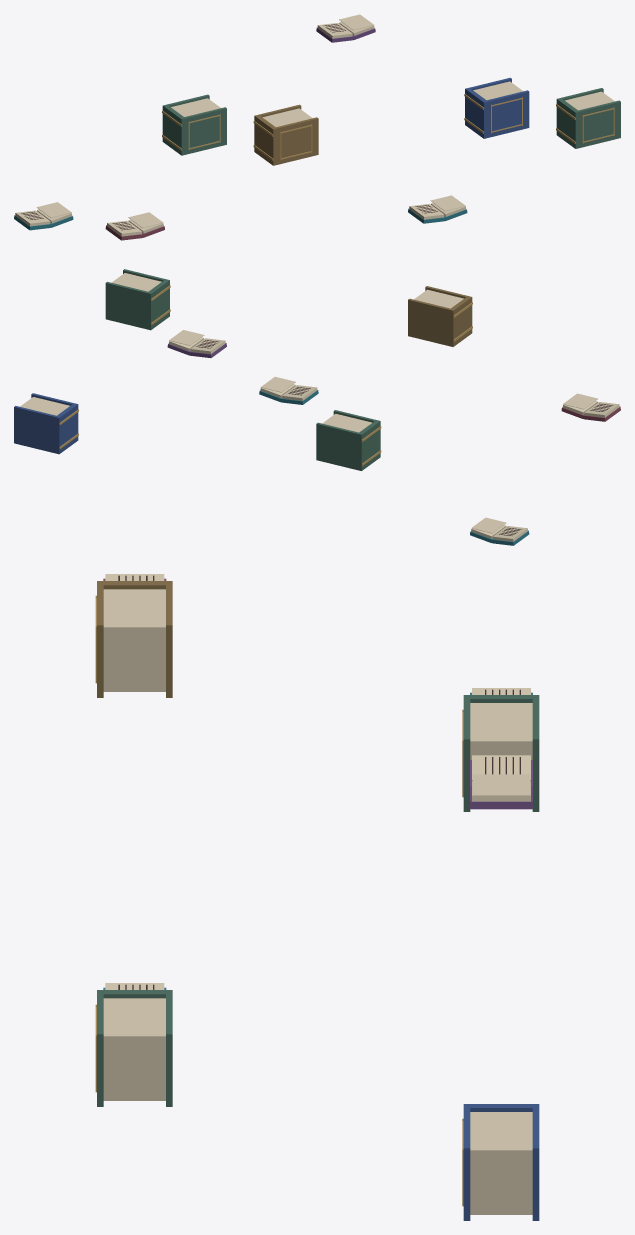
File: archive-floating-books.glb
3 renders of one model, top to bottom at view 1: azimuth 30°, elevation 25°; view 2: azimuth 150°, elevation 25°; view 3: azimuth 270°, elevation 25°, orthographic. The views are drawn at different scales.
Parts seen in each view (by area): view 1: FloatingBook_1_green, FloatingBook_7_green, FloatingBook_3_blue, FloatingBook_5_leather, FloatingBook_2_paper, FloatingBook_4_paper, FloatingBook_0_paper, FloatingBook_6_paper, FloatingBook_1_paper, FloatingBook_7_paper, FloatingBook_3_paper, FloatingBook_5_paper (+8 smaller); view 2: FloatingBook_1_green, FloatingBook_3_blue, FloatingBook_5_leather, FloatingBook_7_green, FloatingBook_2_paper, FloatingBook_6_paper, FloatingBook_0_paper, FloatingBook_4_paper, FloatingBook_1_paper, FloatingBook_3_paper, FloatingBook_7_paper, FloatingBook_5_paper; view 3: FloatingBook_3_paper, FloatingBook_5_paper, FloatingBook_7_paper, FloatingBook_1_paper, FloatingBook_3_blue, FloatingBook_1_green, FloatingBook_5_leather, FloatingBook_7_green, FloatingBook_2_paper, TurningPage_2_paper.
Boxes of the visible parts, left/top/right/bottom form: FloatingBook_1_green: left=162, top=94, right=226, bottom=155; FloatingBook_7_green: left=556, top=88, right=620, bottom=148; FloatingBook_3_blue: left=465, top=77, right=529, bottom=138; FloatingBook_5_leather: left=254, top=104, right=318, bottom=165; FloatingBook_2_paper: left=317, top=21, right=374, bottom=38; FloatingBook_4_paper: left=107, top=219, right=163, bottom=236; FloatingBook_0_paper: left=15, top=209, right=72, bottom=226; FloatingBook_6_paper: left=409, top=203, right=465, bottom=219; FloatingBook_1_paper: left=171, top=98, right=220, bottom=116; FloatingBook_7_paper: left=565, top=91, right=614, bottom=110; FloatingBook_3_paper: left=473, top=81, right=522, bottom=100; FloatingBook_5_paper: left=263, top=108, right=312, bottom=126; FloatingBook_1_green: left=316, top=410, right=380, bottom=470; FloatingBook_3_blue: left=14, top=393, right=78, bottom=454; FloatingBook_5_leather: left=408, top=286, right=472, bottom=346; FloatingBook_7_green: left=105, top=269, right=169, bottom=330; FloatingBook_2_paper: left=168, top=337, right=225, bottom=353; FloatingBook_6_paper: left=260, top=384, right=317, bottom=400; FloatingBook_0_paper: left=471, top=525, right=527, bottom=541; FloatingBook_4_paper: left=562, top=401, right=619, bottom=417; FloatingBook_1_paper: left=322, top=413, right=371, bottom=432; FloatingBook_3_paper: left=20, top=397, right=69, bottom=415; FloatingBook_7_paper: left=111, top=273, right=161, bottom=291; FloatingBook_5_paper: left=414, top=289, right=463, bottom=308; FloatingBook_3_paper: left=470, top=1112, right=532, bottom=1214; FloatingBook_5_paper: left=103, top=589, right=165, bottom=691; FloatingBook_7_paper: left=103, top=998, right=165, bottom=1100; FloatingBook_1_paper: left=470, top=703, right=532, bottom=759; FloatingBook_3_blue: left=463, top=1104, right=539, bottom=1220; FloatingBook_1_green: left=463, top=695, right=539, bottom=811; FloatingBook_5_leather: left=97, top=581, right=172, bottom=697; FloatingBook_7_green: left=97, top=990, right=172, bottom=1106; FloatingBook_2_paper: left=472, top=755, right=530, bottom=801; TurningPage_2_paper: left=472, top=774, right=530, bottom=795.
Size of the model in its own units: 6.59 by 1.9 by 2.54.
9 materials, 1 textured.
